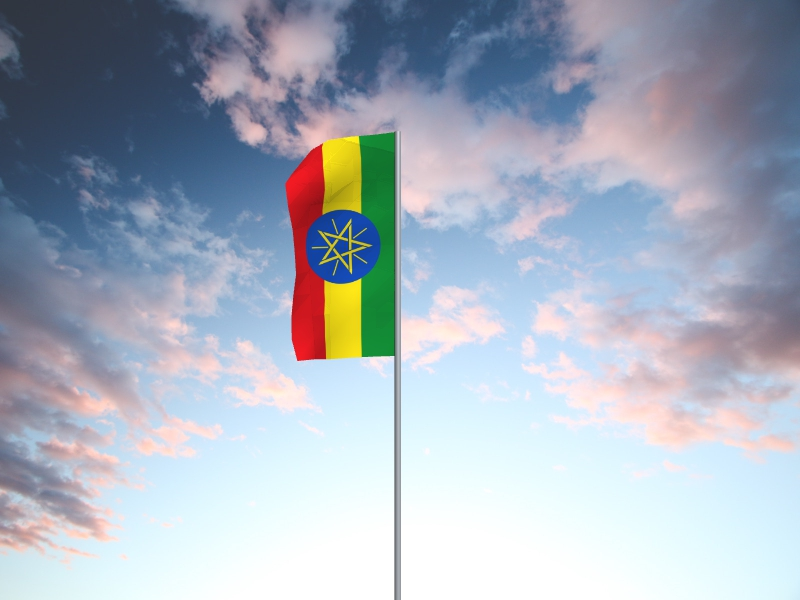et: (285, 133, 396, 363)
